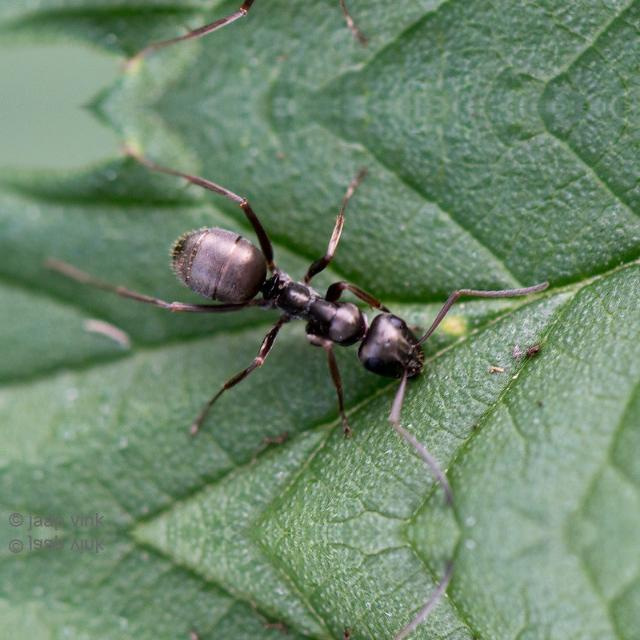Formica: (132, 190, 468, 400)
